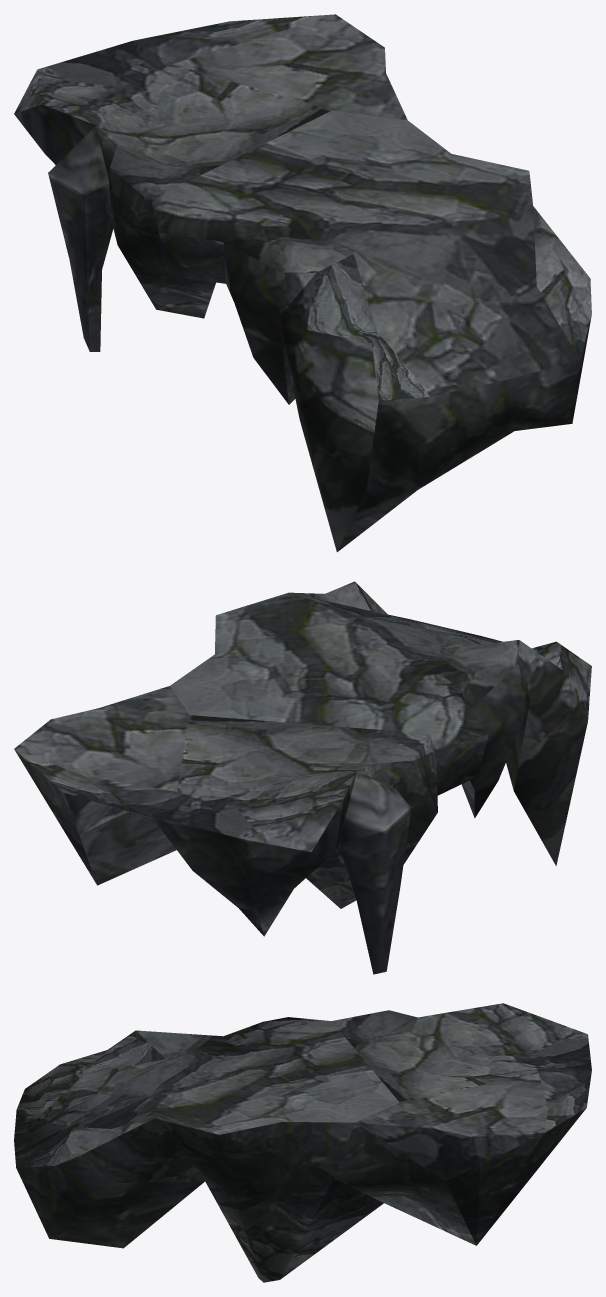
File: tlfb_shitoutongdao.FBX
The picture shows the model from 3 angles, top to bottom: view 1: azimuth 30°, elevation 25°; view 2: azimuth 150°, elevation 25°; view 3: azimuth 270°, elevation 25°; orthographic projection. The views are drawn at different scales.
Parts seen in each view (by area): view 1: tlfb_shitoutongdao; view 2: tlfb_shitoutongdao; view 3: tlfb_shitoutongdao.
Part boxes in pixels (<box>): tlfb_shitoutongdao: <box>14,14,591,552</box>; tlfb_shitoutongdao: <box>14,581,591,974</box>; tlfb_shitoutongdao: <box>14,1003,591,1282</box>.
Size of the model in its own units: 502 by 371 by 903.
